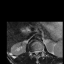CCS_normal: (35, 49, 37, 56)
LFS_stenosis: (39, 49, 40, 54)
LLS_normal: (37, 49, 38, 55)
RFS_severe_stenosis: (32, 50, 34, 54)
RLS_normal: (34, 49, 35, 55)
